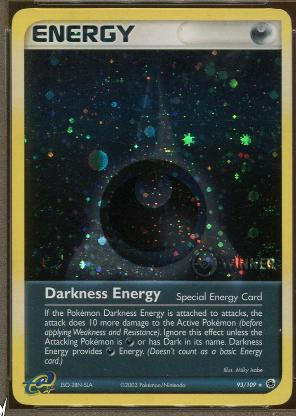Card: (9, 7, 293, 409)
Scratch: (104, 136, 126, 148), (85, 245, 107, 255)
